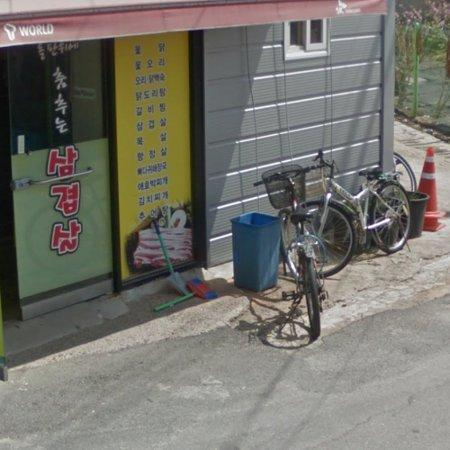bicycles: (303, 152, 412, 276), (256, 166, 327, 342)
